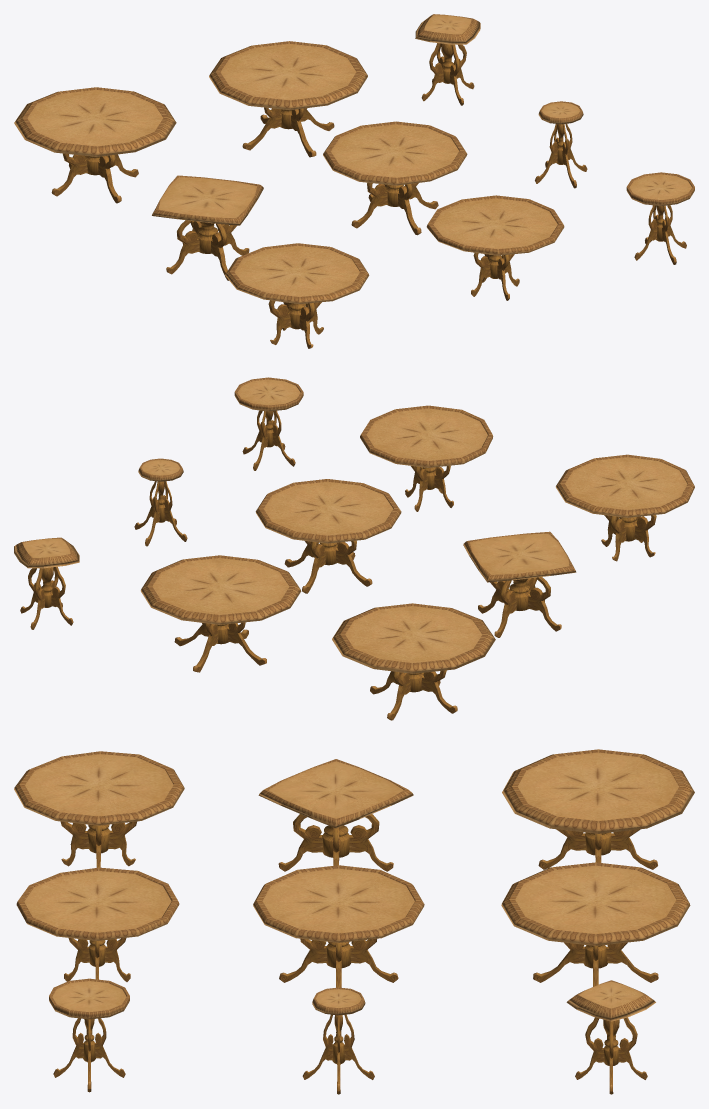
File: Table_Intial_11-24.fbx
3 views of the same model, one above another, from view 1: azimuth 30°, elevation 25°; view 2: azimuth 150°, elevation 25°; view 3: azimuth 270°, elevation 25° (orthographic). The views are drawn at different scales.
Visible parts, largest first — view 1: polySurface26, polySurface27, polySurface22, polySurface24, polySurface23, polySurface31, polySurface30, polySurface29, polySurface28; view 2: polySurface26, polySurface27, polySurface22, polySurface24, polySurface23, polySurface31, polySurface30, polySurface29, polySurface28; view 3: polySurface26, polySurface27, polySurface22, polySurface24, polySurface23, polySurface31, polySurface30, polySurface29, polySurface28.
Boxes of the visible parts, x1,y1,x2,y2 form: polySurface26: (14,87,176,203); polySurface27: (209,41,367,157); polySurface22: (323,121,467,235); polySurface24: (225,243,369,348); polySurface23: (426,195,564,300); polySurface31: (152,175,263,280); polySurface30: (415,14,480,105); polySurface29: (626,172,694,264); polySurface28: (535,101,587,188); polySurface26: (332,603,495,720); polySurface27: (140,555,301,672); polySurface22: (255,479,401,593); polySurface24: (555,454,694,561); polySurface23: (360,405,493,511); polySurface31: (463,531,576,637); polySurface30: (14,537,79,629); polySurface29: (234,377,303,470); polySurface28: (134,458,187,546); polySurface26: (502,749,694,869); polySurface27: (501,862,690,986); polySurface22: (253,865,424,987); polySurface24: (14,751,184,867); polySurface23: (16,867,179,981); polySurface31: (258,759,413,871); polySurface30: (566,980,655,1094); polySurface29: (49,978,129,1092); polySurface28: (302,987,374,1094).
Bounding box in the file's own units: 2.47 × 0.3639 × 2.62.
